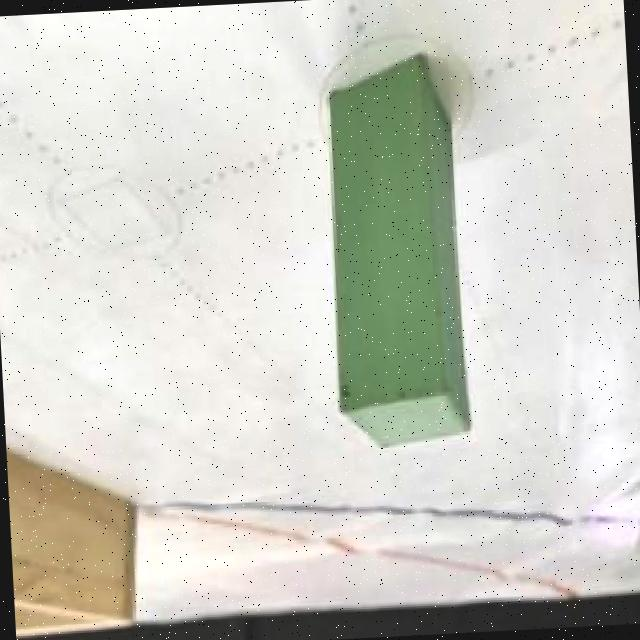greenbox: (318, 50, 475, 455)
